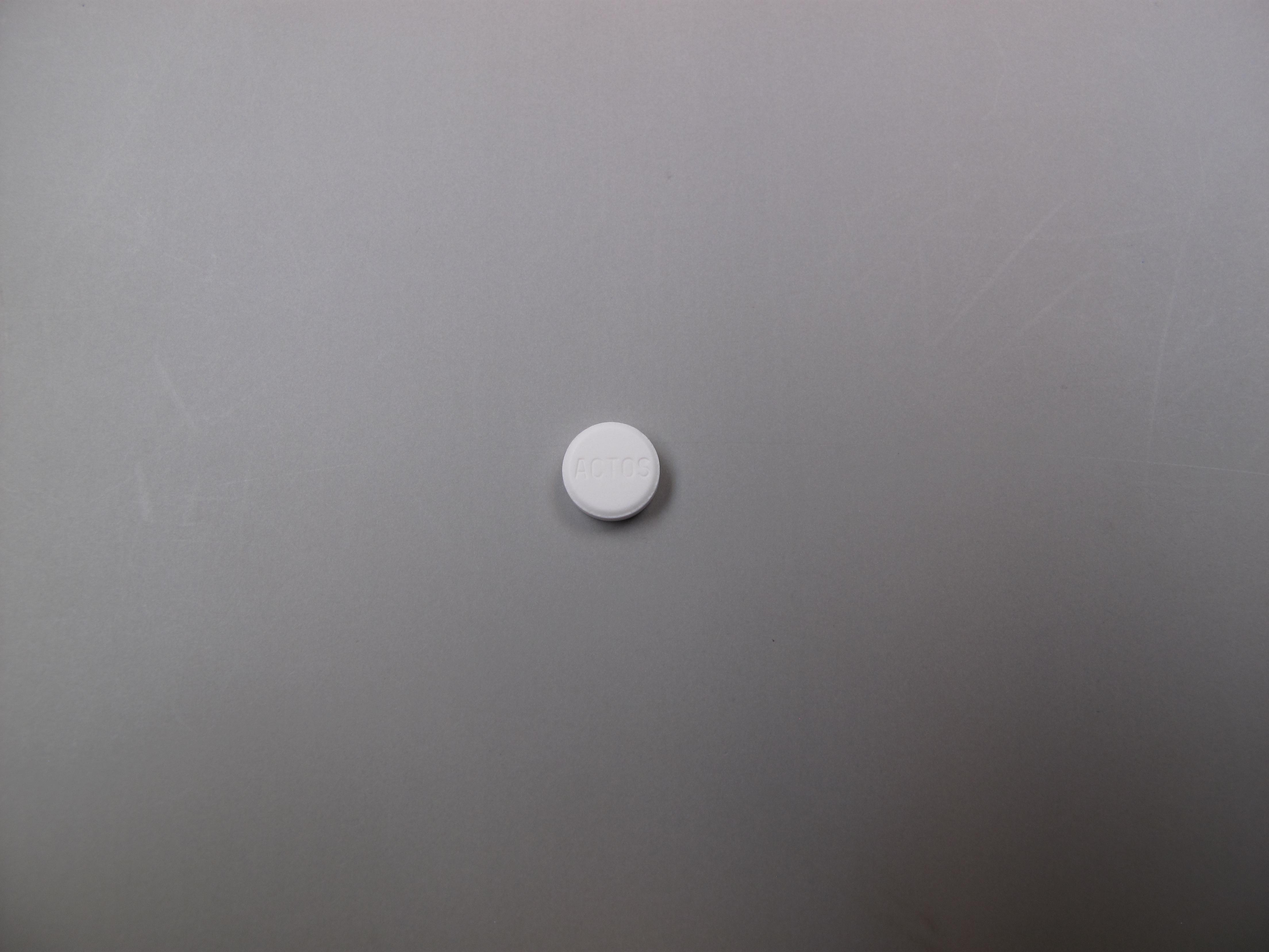Pill: (557, 417, 665, 527)
